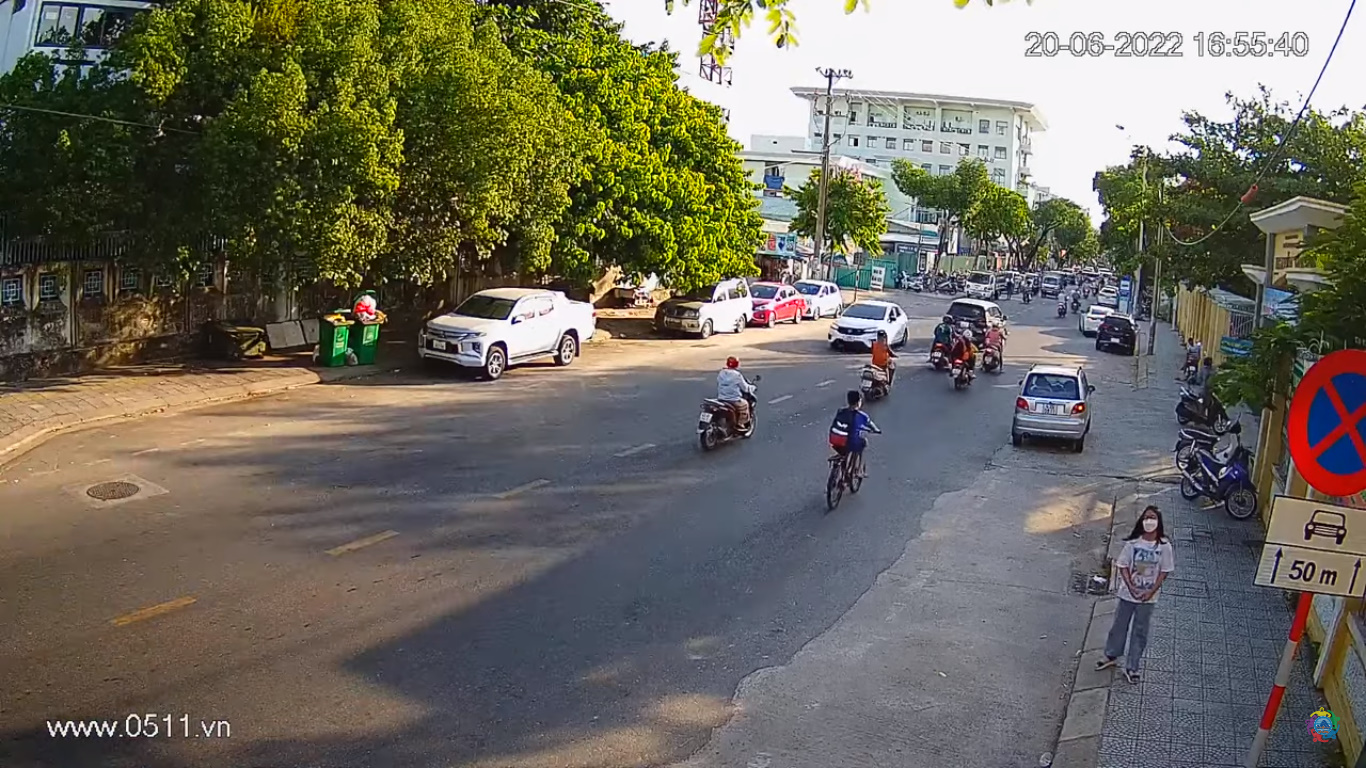car: (834, 300, 903, 349)
